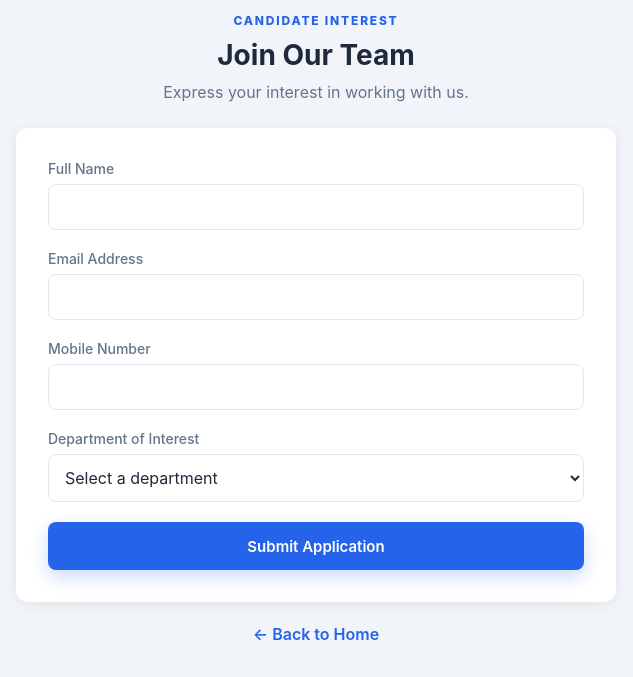
Test: InterestForm › persists a valid unique record, clears the fields, and shows the required confirmation
In the field labelled "Full Name": (316, 207) [48, 184, 584, 230], type "Alex Morgan"
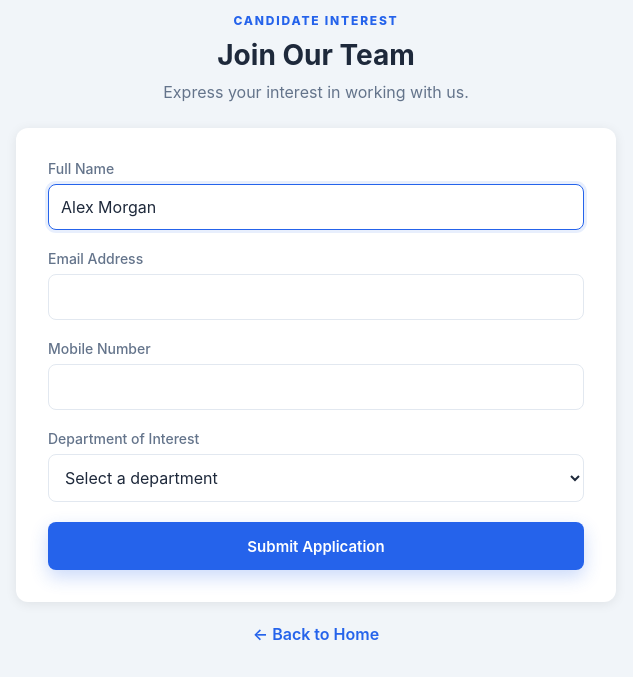
In the field labelled "Email Address": (316, 297) [48, 274, 584, 320], type "alex@example.com"
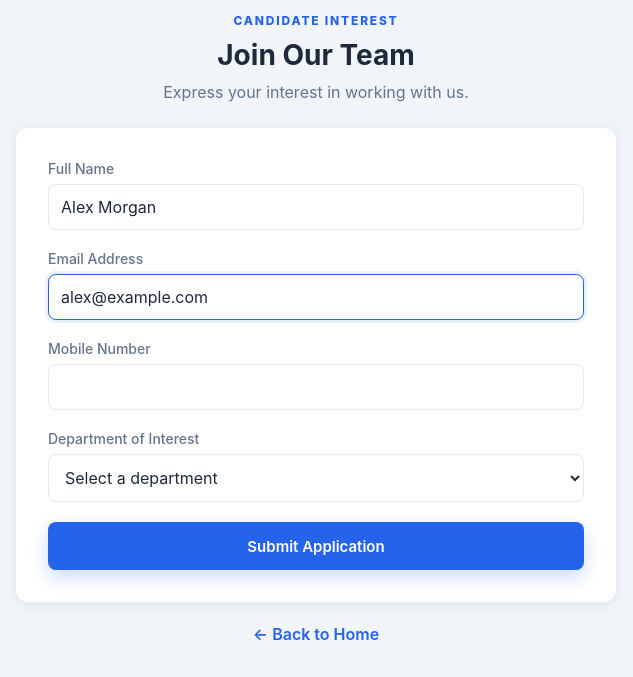
In the field labelled "Mobile Number": (316, 387) [48, 364, 584, 410], type "9876543210"
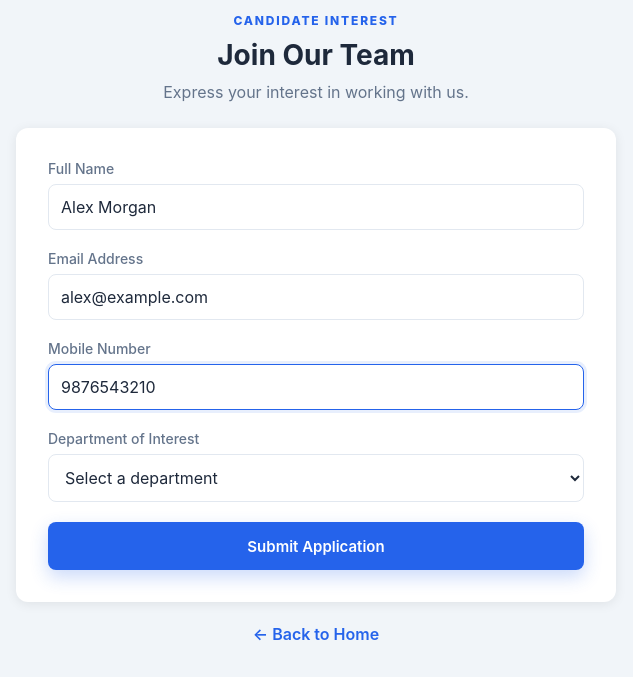
Select "Engineering" in the dropdown labelled "Department of Interest": (316, 478) [48, 454, 584, 502]
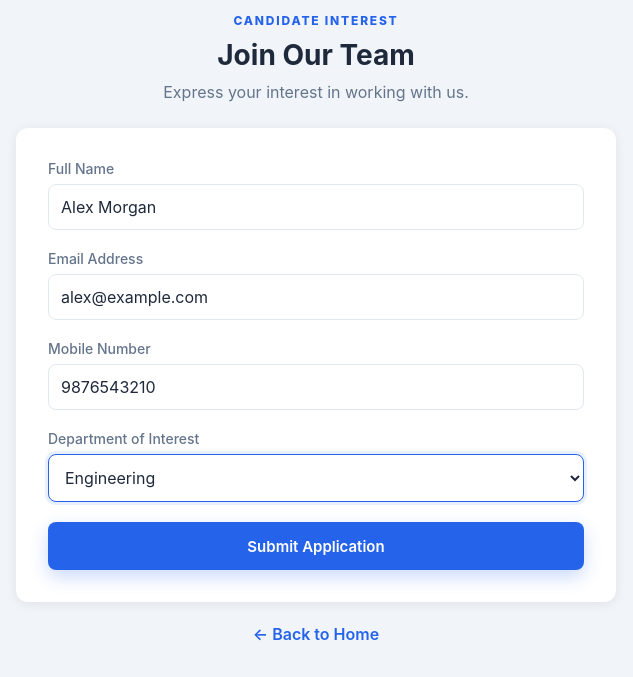
Click the button "Submit Application": (316, 546) [48, 522, 584, 570]
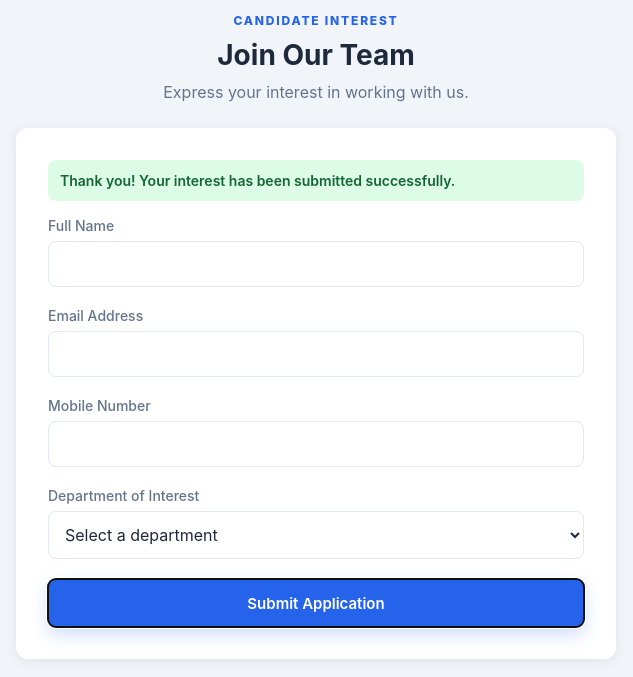
Now the message reads "Thank you! Your interest has been submitted successfully.", box [60, 172, 455, 189]
Now the field labelled "Full Name" is empty, box [48, 241, 584, 287]
